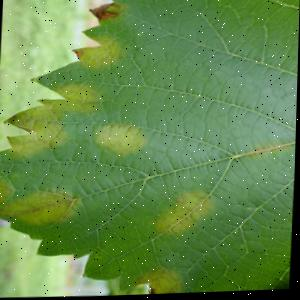Folha: (0, 0, 300, 300)
Fungo: (4, 78, 105, 163), (0, 172, 84, 230), (153, 187, 218, 238), (91, 122, 152, 158), (73, 32, 133, 66), (89, 1, 121, 23)
